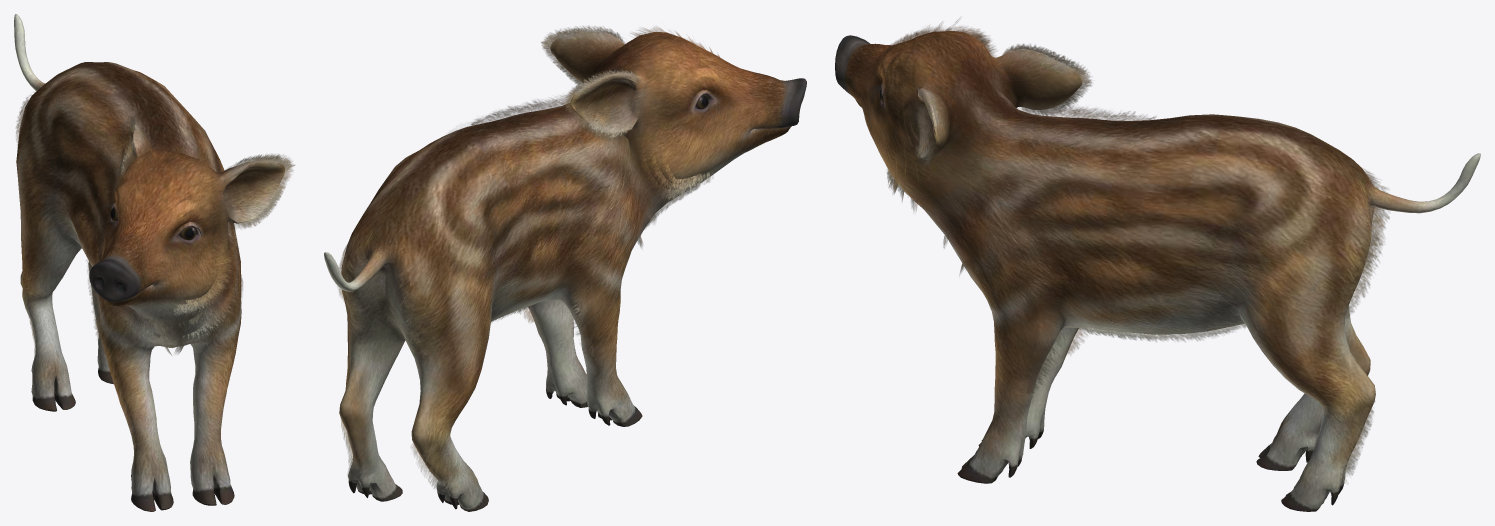
The model's file is Cinghialino.glb.
3 renders of one model, left to right at view 1: azimuth 30°, elevation 25°; view 2: azimuth 150°, elevation 25°; view 3: azimuth 270°, elevation 25°, orthographic. The views are drawn at different scales.
Parts seen in each view (by area): view 1: MeshCInghialino, Peli; view 2: MeshCInghialino, Peli; view 3: MeshCInghialino, Peli.
Part boxes in pixels (bbox=[...]): MeshCInghialino: bbox=[14, 14, 285, 511]; Peli: bbox=[16, 79, 294, 357]; MeshCInghialino: bbox=[324, 32, 806, 511]; Peli: bbox=[338, 25, 724, 492]; MeshCInghialino: bbox=[835, 31, 1480, 511]; Peli: bbox=[878, 18, 1389, 483].
Size of the model in its own units: 0.4029 by 0.5678 by 0.7918.
2 materials, 2 textured.
